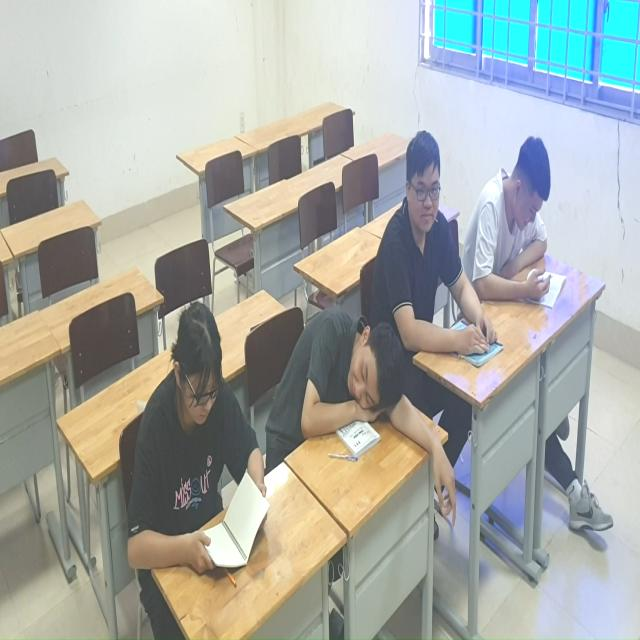read: (116, 290, 271, 595), (386, 122, 508, 372), (483, 129, 571, 322)
sleep: (262, 290, 419, 452)
